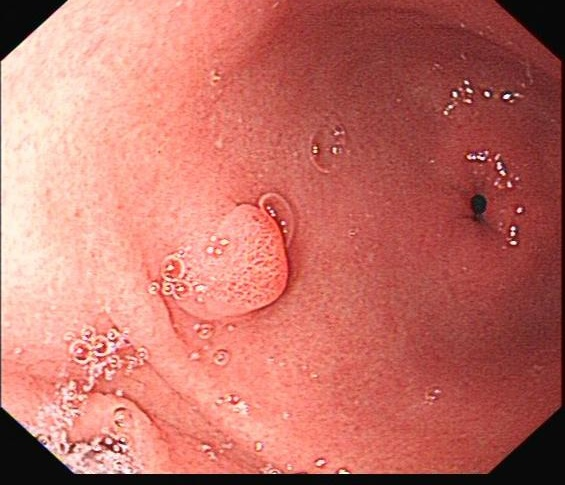Polyp: (171, 190, 299, 321)
